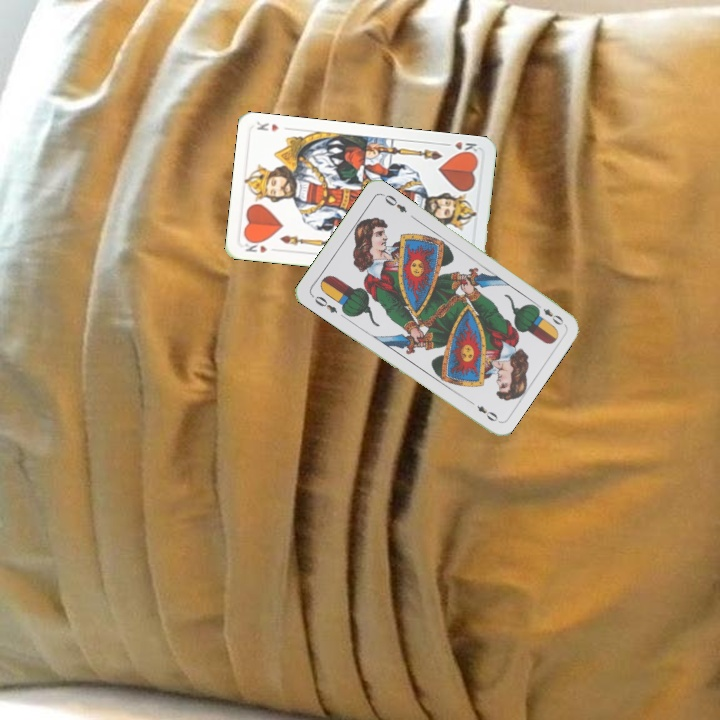EO: (531, 300, 566, 328), (310, 292, 340, 316)
HK: (440, 137, 480, 158), (241, 236, 270, 255)
